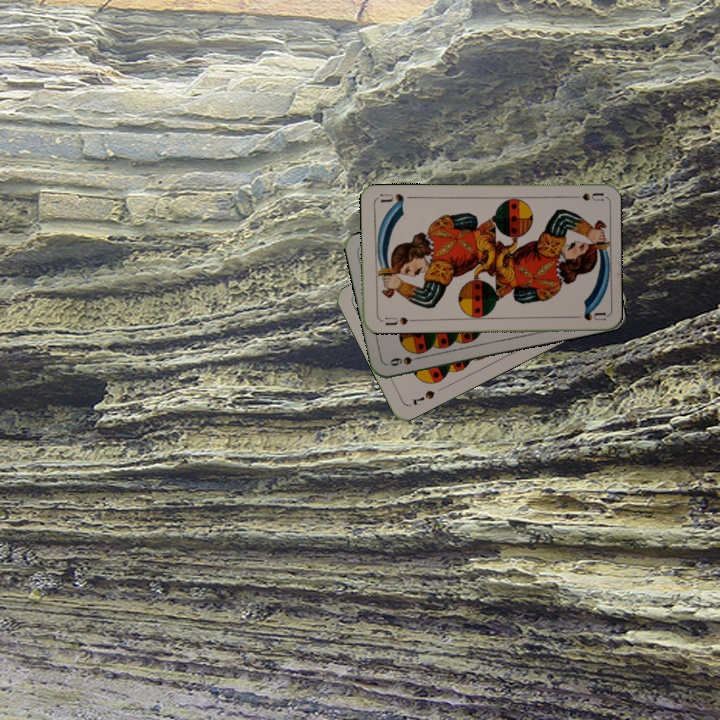S7: (409, 386, 437, 409)
S9: (385, 352, 425, 369)
SU: (564, 189, 604, 203), (376, 313, 410, 328)
